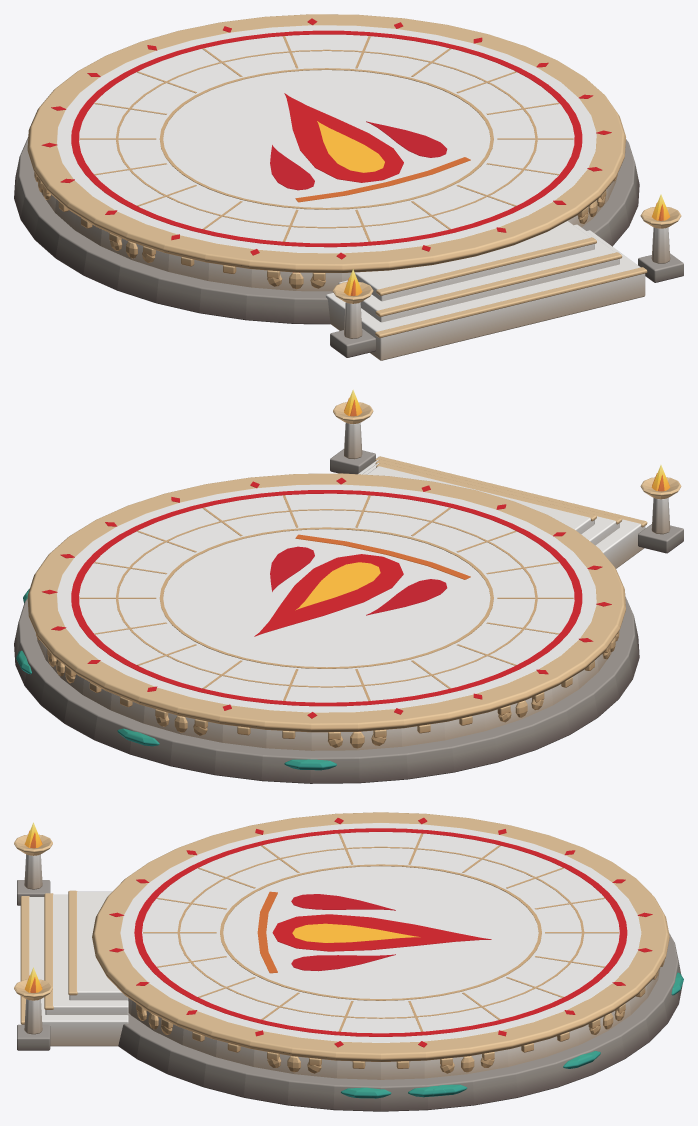
The model's file is grove_dais_fire.glb.
3 renders of one model, top to bottom at view 1: azimuth 30°, elevation 25°; view 2: azimuth 150°, elevation 25°; view 3: azimuth 270°, elevation 25°, orthographic. The views are drawn at different scales.
Visible parts, largest first — view 1: grove_dais_fire; view 2: grove_dais_fire; view 3: grove_dais_fire.
Part boxes in pixels (x1=…): grove_dais_fire: x1=14, y1=14, x2=683, y2=360; grove_dais_fire: x1=14, y1=389, x2=683, y2=783; grove_dais_fire: x1=14, y1=812, x2=683, y2=1111.
Size of the model in its own units: 12.74 by 2.09 by 14.08.
Materials: 4 (4 with a texture image).
